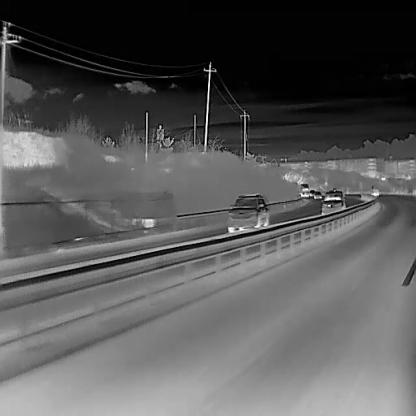car: (225, 193, 269, 233), (320, 190, 345, 216), (370, 184, 379, 196), (307, 188, 316, 198), (313, 190, 322, 199)
truck: (299, 183, 309, 198)
